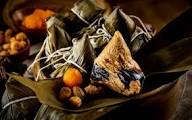zongzi: (91, 31, 144, 96), (83, 7, 150, 52), (58, 34, 95, 73)
